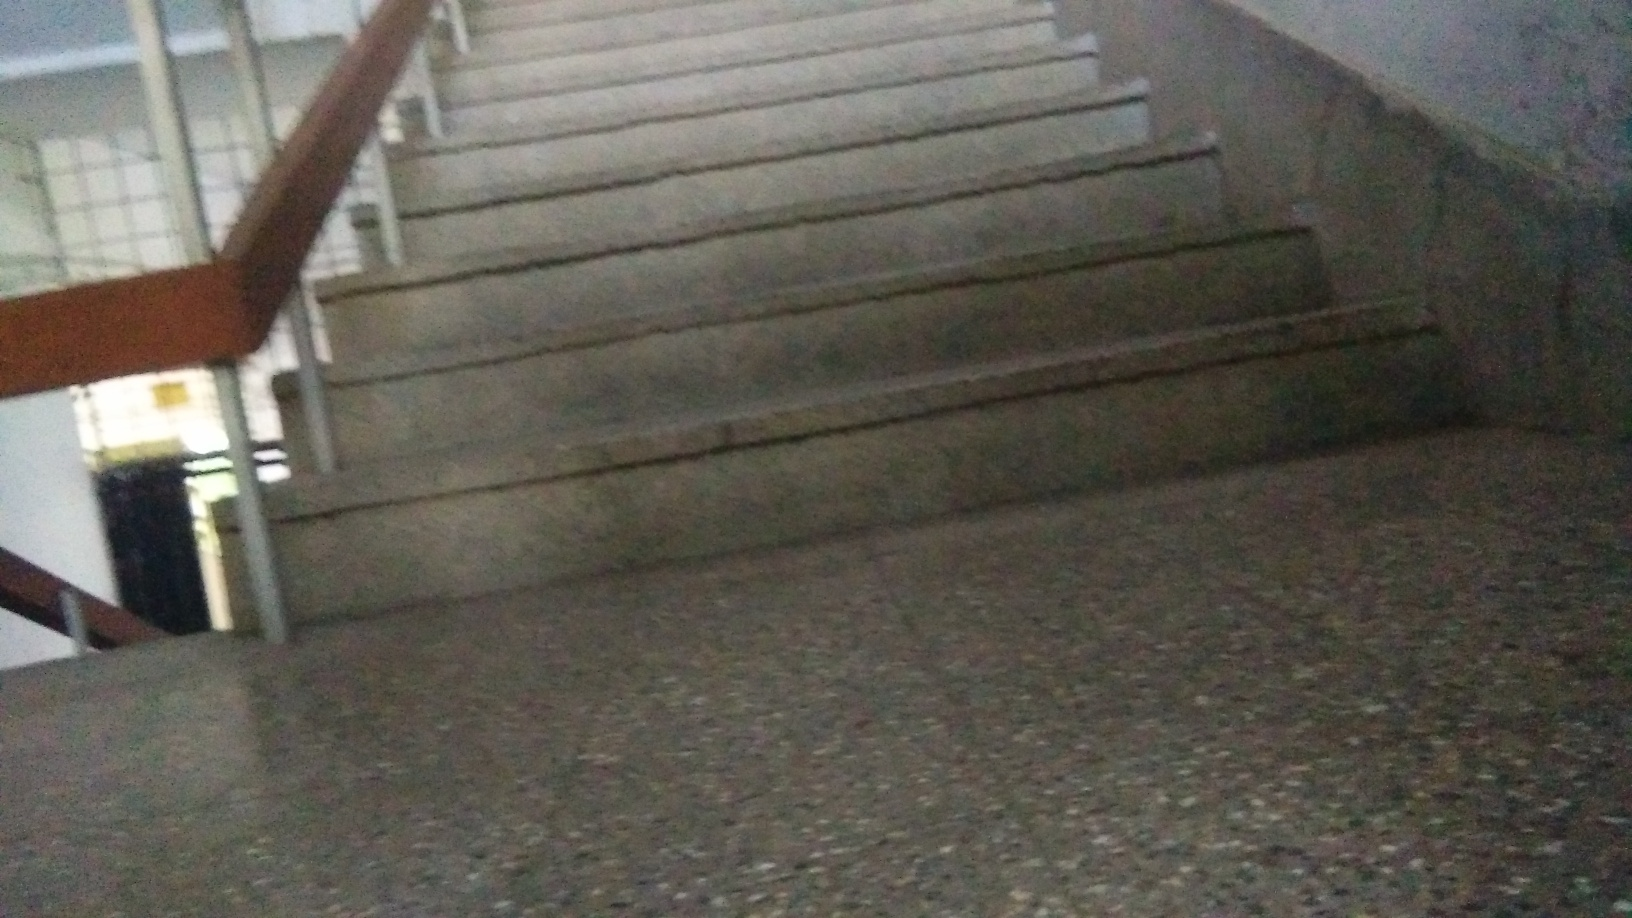stairs_up: (210, 1, 1469, 689)
